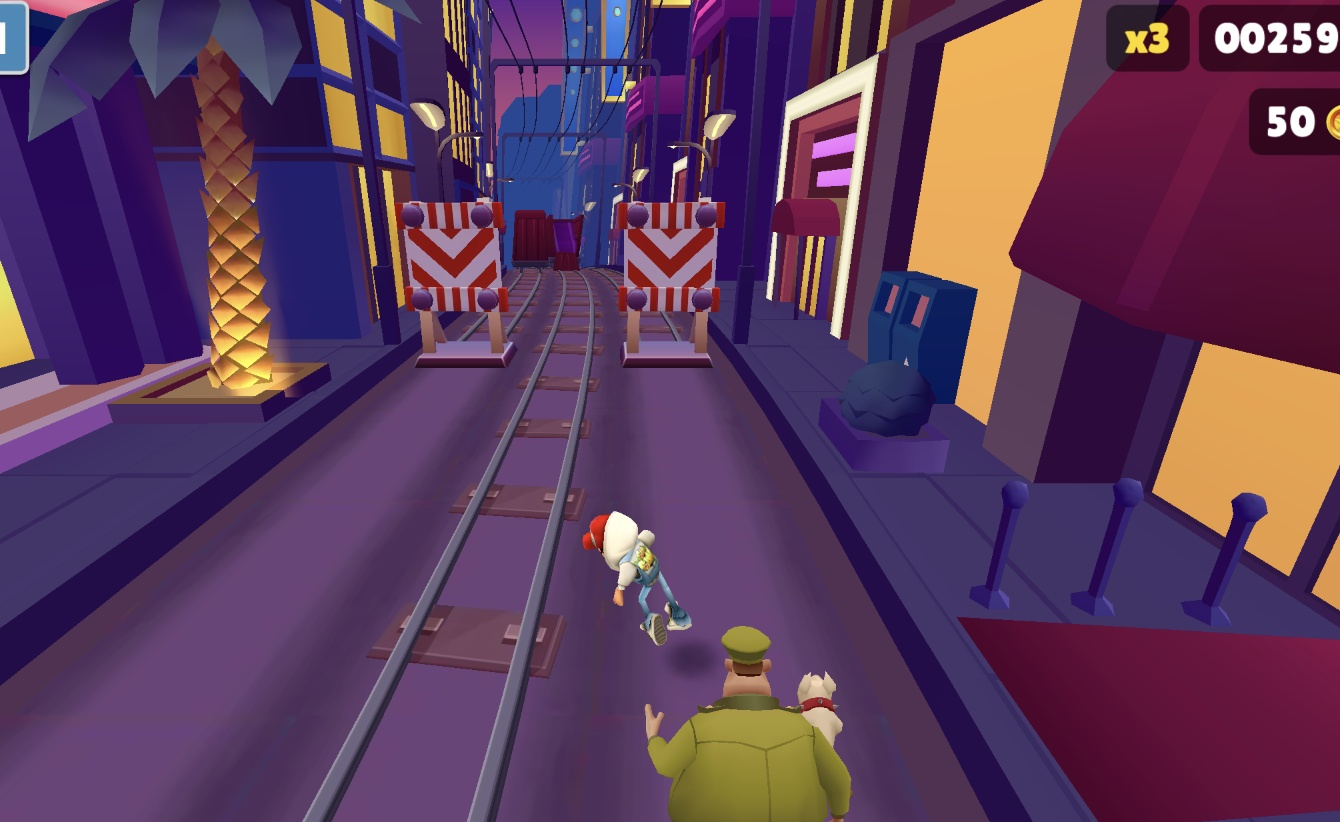overhead_barrier: (398, 200, 510, 368), (623, 200, 725, 366)
train: (508, 208, 554, 269), (549, 210, 587, 270)
